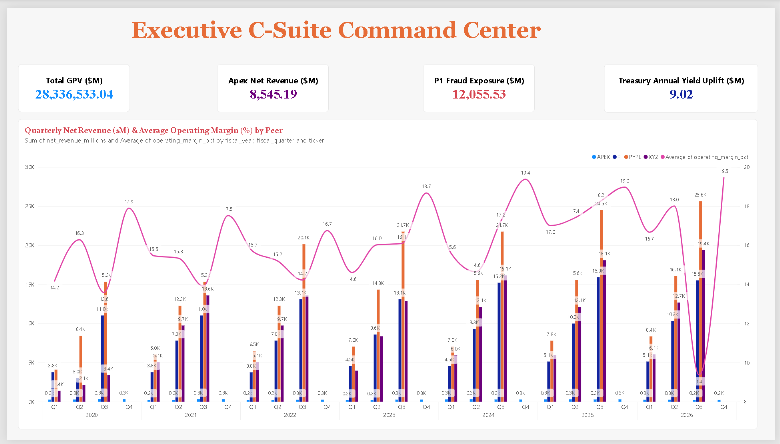

This screenshot's page, from the dashboard's own definition file:
{"tool":"powerbi","page":{"name":"Executive C-Suite Command Center","canvas":[1920,1080],"ordinal":0},"visuals":[{"type":"cardVisual","fields":{"Data":["gold_fact_corporate_financials.Total GPV ($M)"]},"box":[27.6,139.9,279.9,120.8],"z":0},{"type":"cardVisual","fields":{"Data":["gold_fact_corporate_financials.Apex Net Revenue ($M)"]},"box":[525.8,139.9,279.9,120.8],"z":1},{"type":"cardVisual","fields":{"Data":["gold_fact_fraud_scored.P1 Fraud Exposure ($M)"]},"box":[1038.9,139.9,279.9,120.8],"z":2},{"type":"cardVisual","fields":{"Data":["gold_fact_treasury_optimization.Treasury Annual Yield Uplift ($M)"]},"box":[1491.8,139.9,385.7,121],"z":3},{"type":"lineClusteredColumnComboChart","title":"Quarterly Net Revenue ($M) & Average Operating Margin (%) by Peer","fields":{"Category":["gold_fact_corporate_financials.fiscal_year","gold_fact_corporate_financials.fiscal_quarter"],"Series":["gold_dim_company.ticker"],"Y":["Sum(gold_fact_corporate_financials.net_revenue_millions)"],"Y2":["Avg(gold_fact_corporate_financials.operating_margin_pct)"]},"box":[28.7,277.7,1847.9,775.6],"z":4},{"type":"textbox","box":[308,111,1569,150],"z":5},{"type":"textbox","box":[308.8,21.5,1213.6,117.3],"z":6}]}

Visuals, with their boxes in screenshot pixels (x1, y1, x2, y2), scaled from the page's 1920x1080 canvas onto the 780x444 screenshot:
cardVisual - gold_fact_corporate_financials.Total GPV ($M): (x1=11, y1=58, x2=125, y2=107)
cardVisual - gold_fact_corporate_financials.Apex Net Revenue ($M): (x1=214, y1=58, x2=327, y2=107)
cardVisual - gold_fact_fraud_scored.P1 Fraud Exposure ($M): (x1=422, y1=58, x2=536, y2=107)
cardVisual - gold_fact_treasury_optimization.Treasury Annual Yield Uplift ($M): (x1=606, y1=58, x2=763, y2=107)
"Quarterly Net Revenue ($M) & Average Operating Margin (%) by Peer" lineClusteredColumnComboChart: (x1=12, y1=114, x2=762, y2=433)
textbox: (x1=125, y1=46, x2=763, y2=107)
textbox: (x1=125, y1=9, x2=618, y2=57)
